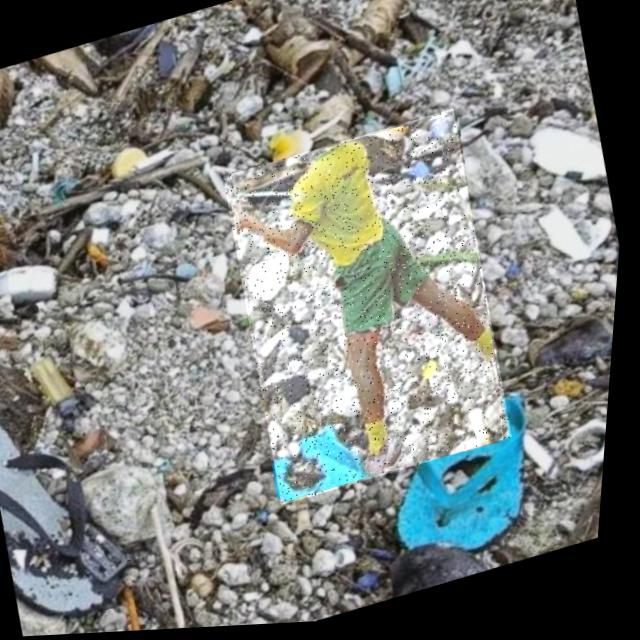Person in Rubble: (206, 110, 538, 511)
